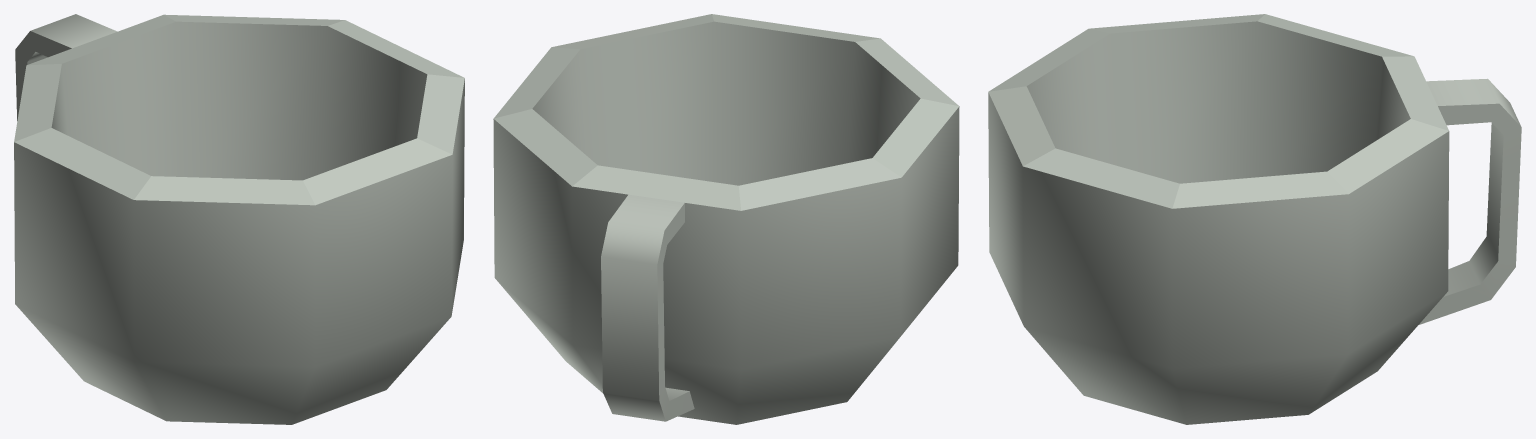
File: Mug_1_A.fbx
3 renders of one model, left to right at view 1: azimuth 30°, elevation 25°; view 2: azimuth 150°, elevation 25°; view 3: azimuth 270°, elevation 25°, orthographic.
Visible parts, largest first — view 1: Mug_1_A; view 2: Mug_1_A; view 3: Mug_1_A.
Boxes of the visible parts, bbox=[...] form: Mug_1_A: bbox=[14, 14, 464, 424]; Mug_1_A: bbox=[493, 14, 959, 424]; Mug_1_A: bbox=[988, 14, 1521, 424].
Size of the model in its own units: 14.83 by 9.06 by 17.16.
